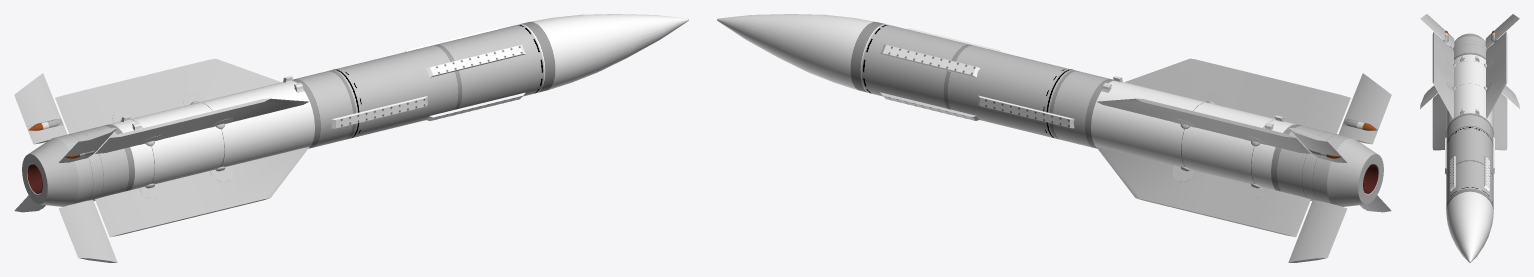
3 renders of one model, left to right at view 1: azimuth 30°, elevation 25°; view 2: azimuth 150°, elevation 25°; view 3: azimuth 270°, elevation 25°, orthographic. The views are drawn at different scales.
Parts seen in each view (by area): view 1: R-33 Vympel; view 2: R-33 Vympel; view 3: R-33 Vympel.
Boxes of the visible parts, bbox=[...] form: R-33 Vympel: bbox=[14, 14, 688, 262]; R-33 Vympel: bbox=[717, 14, 1391, 262]; R-33 Vympel: bbox=[1420, 14, 1519, 262].
Bounding box in the file's own units: 4.15 × 0.8207 × 0.8207.
1 material, 1 textured.
